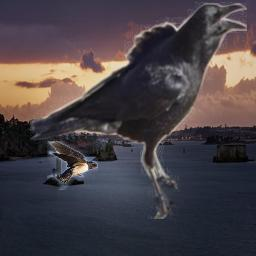Crow: (30, 2, 247, 219)
Swallow: (47, 141, 98, 190)
